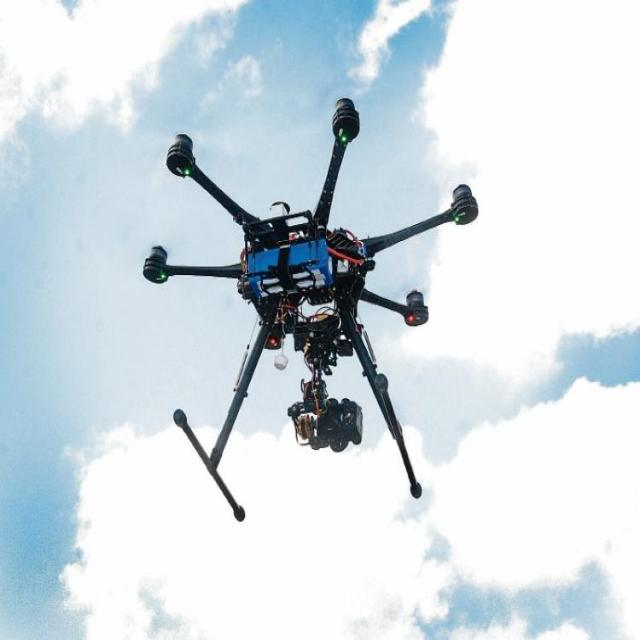drone: (136, 62, 492, 526)
